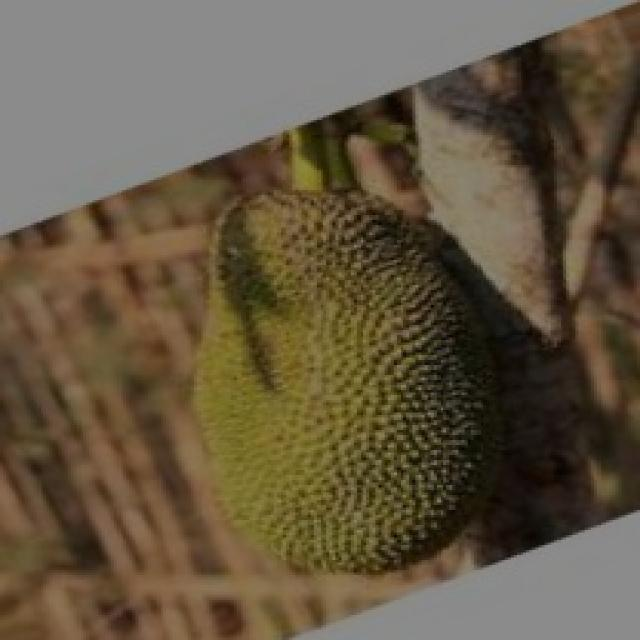Fruit: (157, 143, 554, 615)
